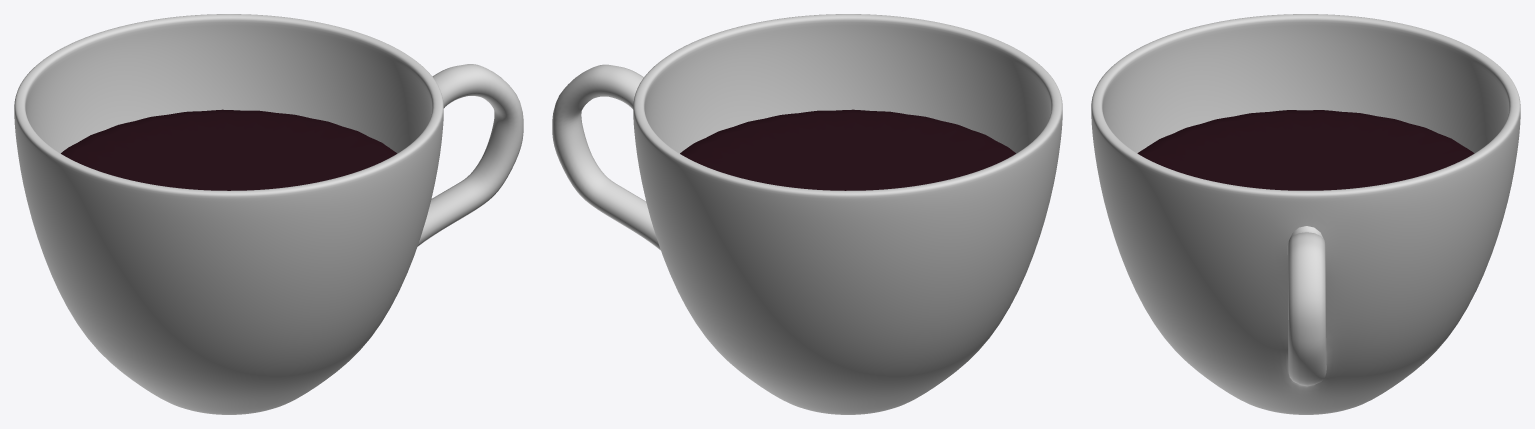
File: CoffeeCup.fbx
3 views of the same model, side by side, from view 1: azimuth 30°, elevation 25°; view 2: azimuth 150°, elevation 25°; view 3: azimuth 270°, elevation 25° (orthographic).
Visible parts, largest first — view 1: Cup, Liquid; view 2: Cup, Liquid; view 3: Cup, Liquid.
Boxes of the visible parts, bbox=[...] form: Cup: bbox=[14, 14, 523, 414]; Liquid: bbox=[61, 109, 396, 190]; Cup: bbox=[552, 14, 1062, 414]; Liquid: bbox=[680, 109, 1015, 190]; Cup: bbox=[1091, 14, 1520, 414]; Liquid: bbox=[1137, 110, 1474, 190].
Bounding box in the file's own units: 24.67 × 13.97 × 19.24.
